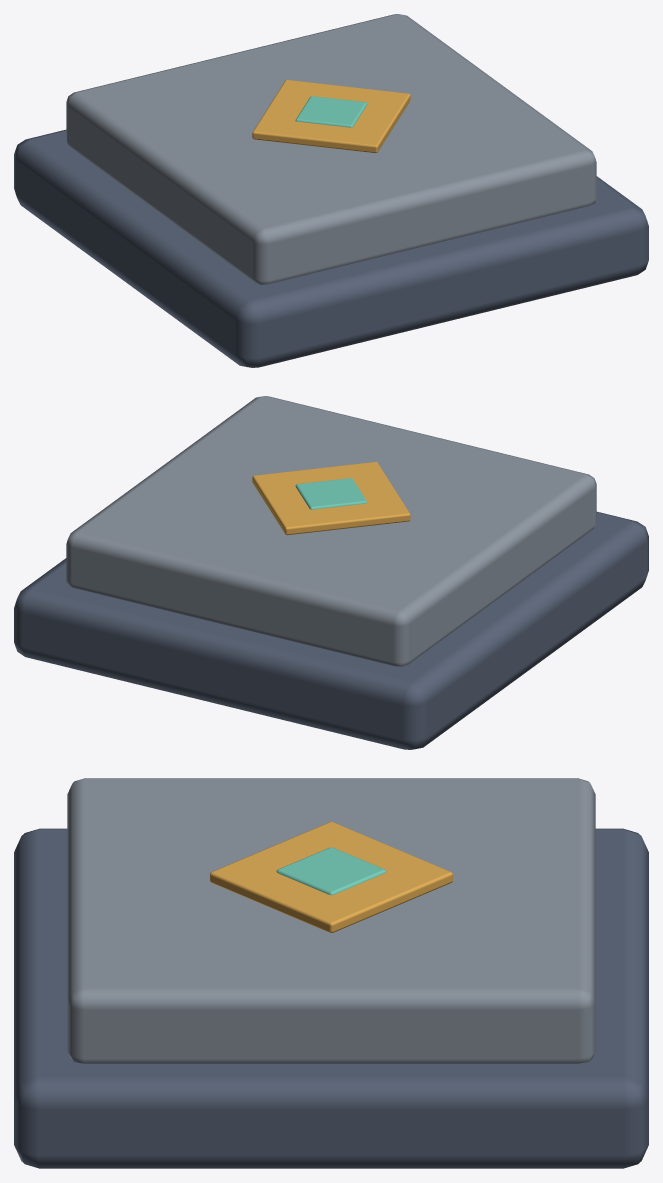
Rendered from rune-pressure-plate.glb.
3 views of the same model, one above another, from view 1: azimuth 30°, elevation 25°; view 2: azimuth 150°, elevation 25°; view 3: azimuth 270°, elevation 25° (orthographic). The views are drawn at different scales.
Parts seen in each view (by area): view 1: plate, base, diamond, core; view 2: plate, base, diamond, core; view 3: plate, base, diamond, core.
Part boxes in pixels (box(x1,y1,x2,y2)): plate: box(66, 14, 596, 284); base: box(14, 129, 648, 367); diamond: box(252, 80, 410, 153); core: box(295, 96, 367, 127); plate: box(66, 396, 596, 666); base: box(14, 511, 648, 749); diamond: box(252, 462, 410, 535); core: box(295, 478, 367, 509); plate: box(67, 778, 595, 1063); base: box(14, 828, 648, 1168); diamond: box(210, 822, 452, 932); core: box(276, 847, 386, 895).
Bounding box in the file's own units: 0.95 × 0.2885 × 0.95.
